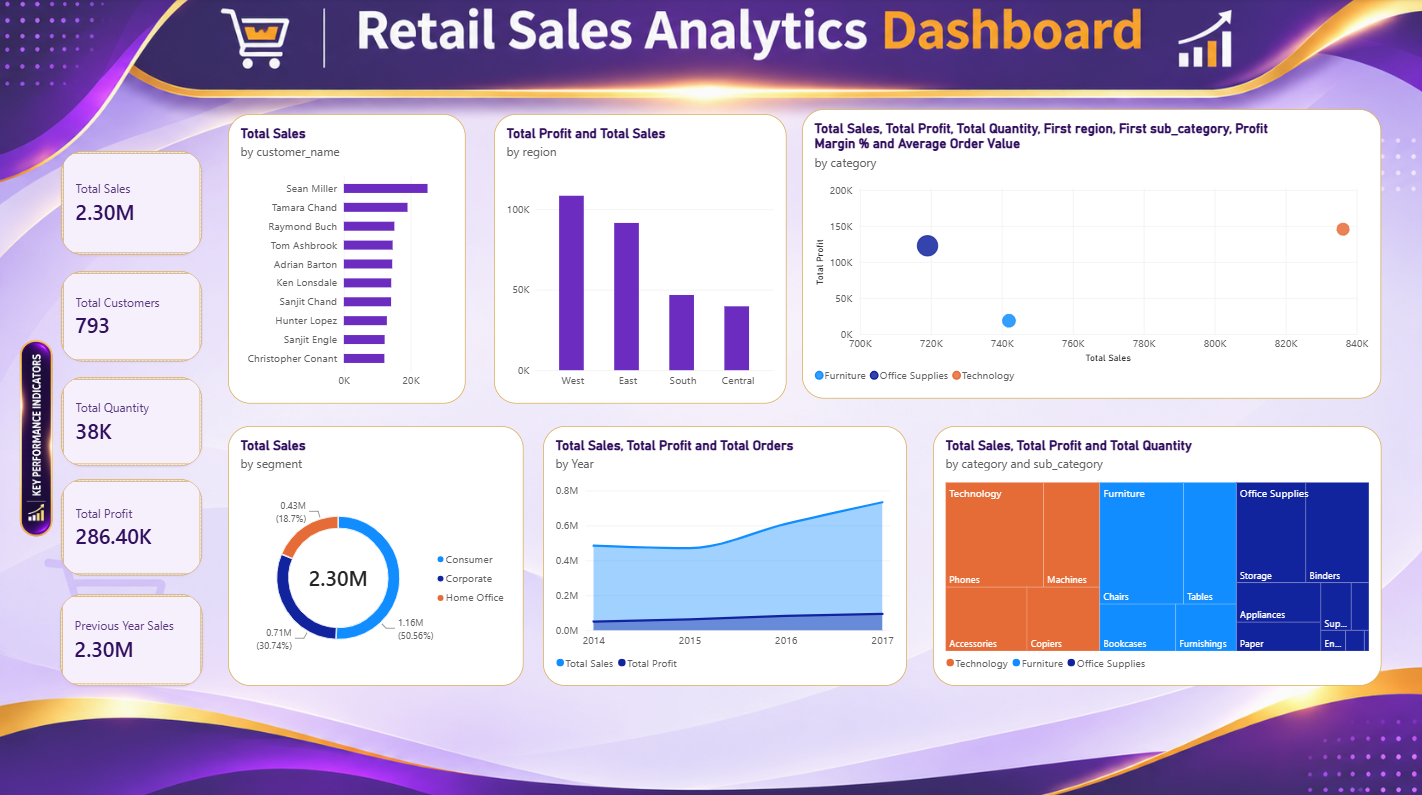

What the dashboard file says about the page in this screenshot:
{"tool":"powerbi","page":{"name":"Page 1","canvas":[1920,1080],"ordinal":0},"visuals":[{"type":"cardVisual","fields":{"Data":["superstore_clean.Total Customers"]},"box":[84,368,190,122],"z":0},{"type":"cardVisual","fields":{"Data":["superstore_clean.Total Quantity"]},"box":[84,510,190,120],"z":1},{"type":"cardVisual","fields":{"Data":["dim_date.Previous Year Sales"]},"box":[82,802,192,124],"z":2},{"type":"cardVisual","fields":{"Data":["superstore_clean.Total Sales"]},"box":[84,206,190,140],"z":3},{"type":"cardVisual","fields":{"Data":["superstore_clean.Total Profit"]},"box":[84,648,190,130],"z":4},{"type":"clusteredBarChart","fields":{"Category":["superstore_clean.customer_name"],"Y":["superstore_clean.Total Sales"]},"box":[308,156,320,390],"z":5},{"type":"clusteredColumnChart","fields":{"Category":["superstore_clean.region"],"Y":["superstore_clean.Total Profit"]},"box":[666,156,394,390],"z":6},{"type":"donutChart","fields":{"Category":["superstore_clean.segment"],"Y":["superstore_clean.Total Sales"]},"box":[308,576,398,350],"z":7},{"type":"areaChart","fields":{"Category":["superstore_clean.order_date.Variation.Date Hierarchy.Year","superstore_clean.order_date.Variation.Date Hierarchy.Quarter","superstore_clean.order_date.Variation.Date Hierarchy.Month","superstore_clean.order_date.Variation.Date Hierarchy.Day"],"Y":["superstore_clean.Total Sales","superstore_clean.Total Profit"]},"box":[732,576,490,350],"z":8},{"type":"scatterChart","fields":{"Series":["superstore_clean.category"],"Size":["superstore_clean.Total Quantity"],"X":["superstore_clean.Total Sales"],"Y":["superstore_clean.Total Profit"]},"box":[1082,150,780,390],"z":9},{"type":"treemap","fields":{"Details":["superstore_clean.sub_category"],"Group":["superstore_clean.category"],"Values":["superstore_clean.Total Sales"]},"box":[1258,576,604,350],"z":10},{"type":"image","box":[0,262,100,688],"z":11}]}

Visuals, with their boxes in screenshot pixels (x1, y1, x2, y2), scaled from the page's 1920x1080 canvas onto the 1422x795 screenshot:
cardVisual - superstore_clean.Total Customers: select_region(62, 271, 203, 361)
cardVisual - superstore_clean.Total Quantity: select_region(62, 375, 203, 464)
cardVisual - dim_date.Previous Year Sales: select_region(61, 590, 203, 682)
cardVisual - superstore_clean.Total Sales: select_region(62, 152, 203, 255)
cardVisual - superstore_clean.Total Profit: select_region(62, 477, 203, 573)
clusteredBarChart - superstore_clean.customer_name x superstore_clean.Total Sales: select_region(228, 115, 465, 402)
clusteredColumnChart - superstore_clean.region x superstore_clean.Total Profit: select_region(493, 115, 785, 402)
donutChart - superstore_clean.segment x superstore_clean.Total Sales: select_region(228, 424, 523, 682)
areaChart - superstore_clean.order_date.Variation.Date Hierarchy.Year x superstore_clean.order_date.Variation.Date Hierarchy.Quarter: select_region(542, 424, 905, 682)
scatterChart - superstore_clean.category x superstore_clean.Total Quantity: select_region(801, 110, 1379, 398)
treemap - superstore_clean.sub_category x superstore_clean.category: select_region(932, 424, 1379, 682)
image: select_region(0, 193, 74, 699)
